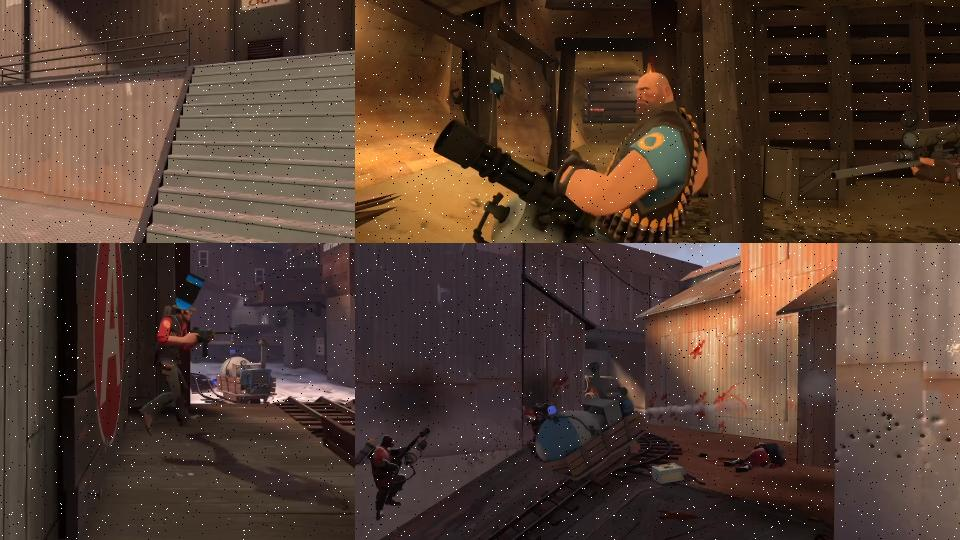Enemy: (432, 70, 710, 243), (828, 60, 960, 243), (138, 302, 240, 438), (355, 425, 432, 521), (723, 441, 787, 472)
